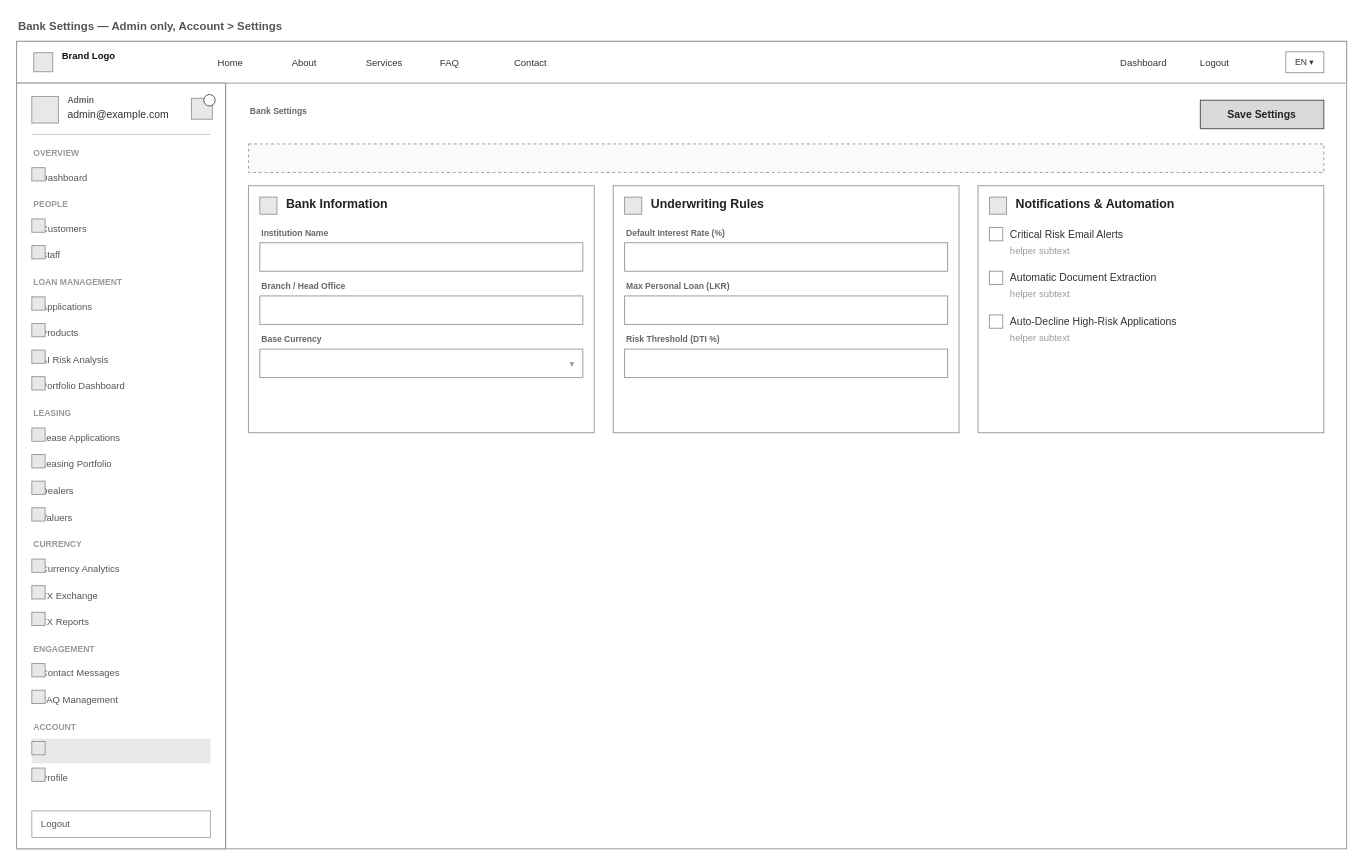
Image size: 1364x866. Some labels were removed from this diagram. Each missing label, with the box of its shape:
Preview-only disclaimer — most fields below are not yet persisted.: (247, 143, 1324, 172)
Settings: (31, 738, 210, 763)
